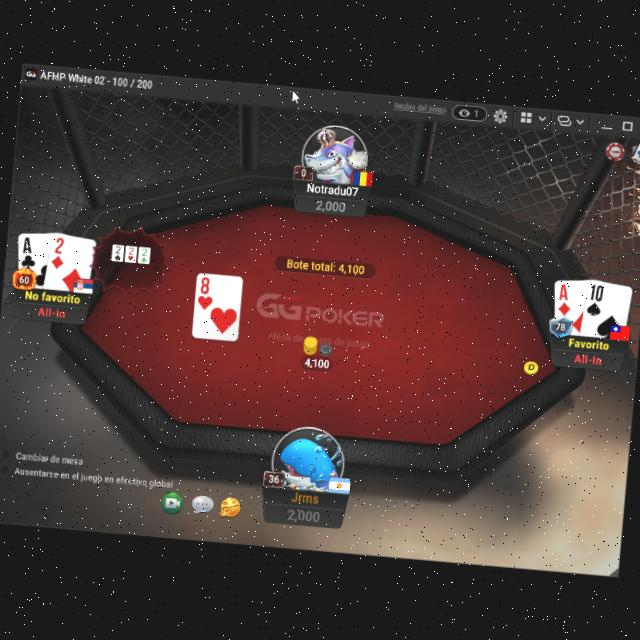2d: (49, 234, 67, 270)
8h: (196, 274, 216, 310)
Ac: (18, 234, 40, 272)
Ad: (554, 281, 576, 318)
Ts: (584, 281, 606, 319)
all_in_symbol: (572, 350, 604, 367), (37, 303, 67, 318)
bet_text: (302, 354, 331, 370)
dealer: (520, 357, 541, 376)
pot_text: (284, 256, 368, 275)
stack_text: (284, 504, 322, 524), (313, 196, 347, 213)
